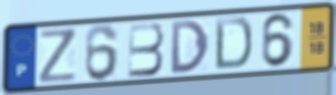6: (84, 22, 121, 83), (260, 11, 296, 70)
B: (126, 20, 166, 79)
D: (169, 18, 211, 76), (213, 16, 255, 72)
Z: (38, 26, 79, 85)
